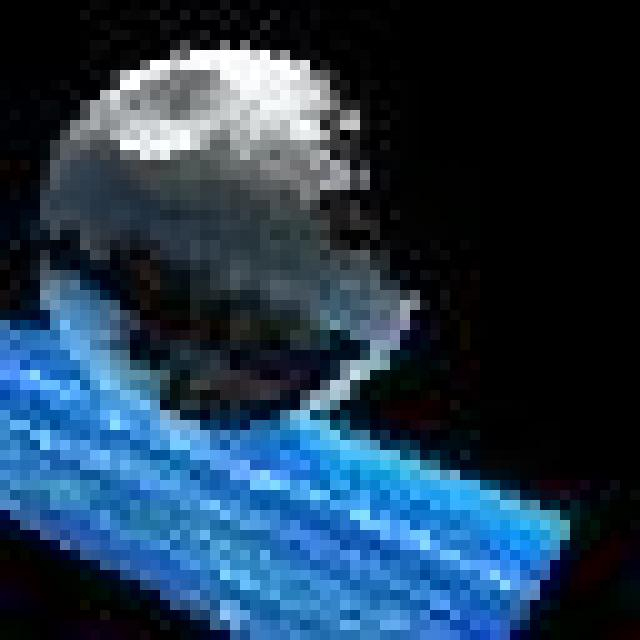Death Star: (31, 37, 447, 449)
